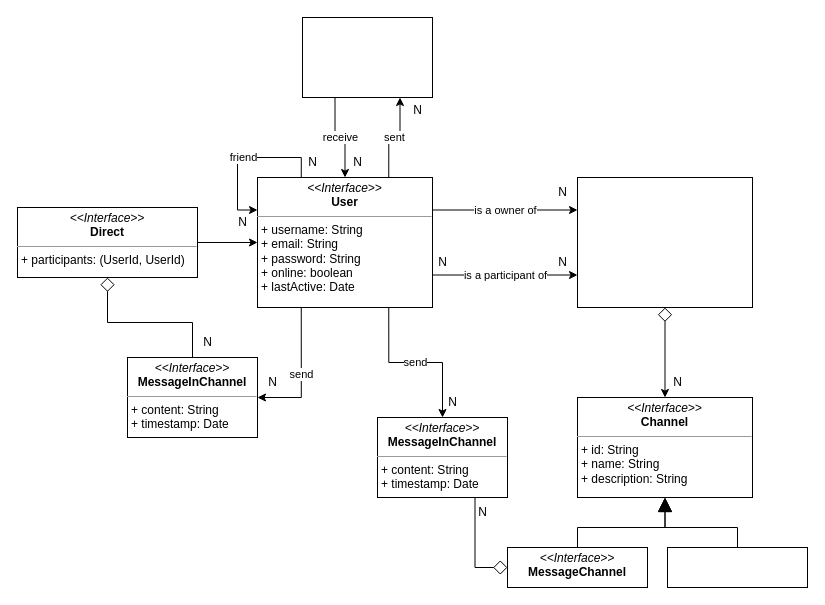
Some shapes in this 825 by 605 pixel diagram are drawn without their labels. Here are the shapes that lost their labels. From the top down, the centre of each, then its label:
(x=367, y=57): <<Interface>> FriendRequest + from: User + to: User
(x=664, y=242): <<Interface>> Server + id: String + name: String + description: String
(x=737, y=567): <<Interface>> MultimediaChannel
